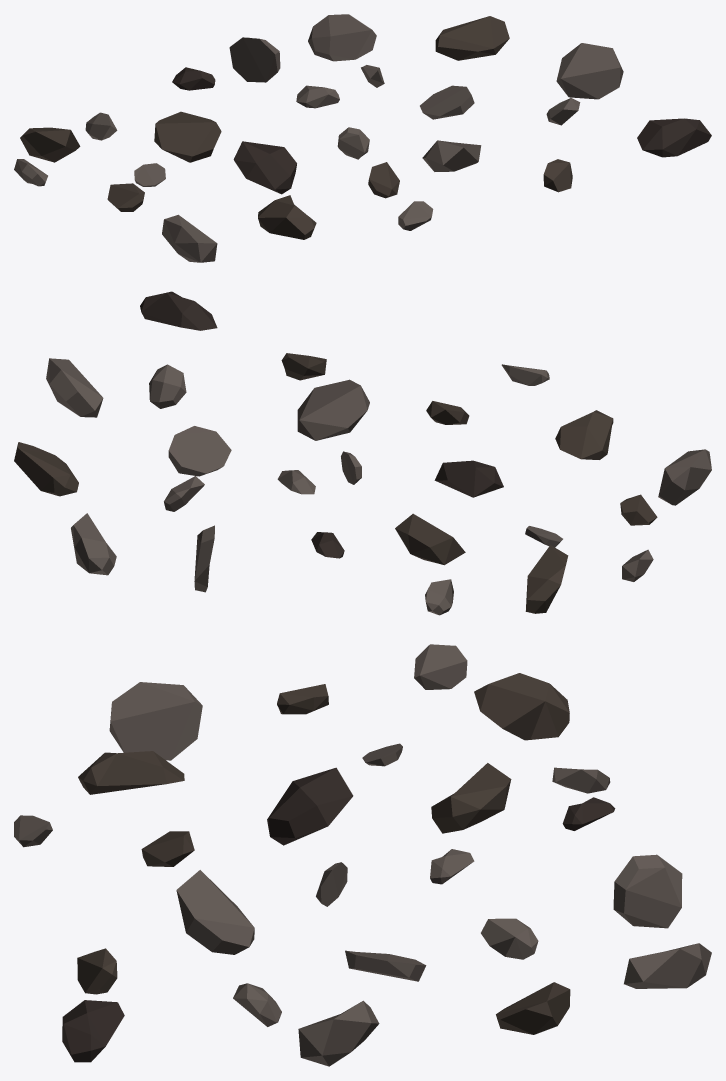
The model's file is Pebbles_02.fbx.
The picture shows the model from 3 angles, top to bottom: view 1: azimuth 30°, elevation 25°; view 2: azimuth 150°, elevation 25°; view 3: azimuth 270°, elevation 25°; orthographic projection. The views are drawn at different scales.
Visible parts, largest first — view 1: Pebbles_02; view 2: Pebbles_02; view 3: Pebbles_02.
Part boxes in pixels (x1=…): Pebbles_02: x1=14, y1=14, x2=711, y2=262; Pebbles_02: x1=14, y1=291, x2=711, y2=615; Pebbles_02: x1=14, y1=644, x2=711, y2=1066.
Bounding box in the file's own units: 148 × 14.94 × 111.
Materials: 1 (1 with a texture image).
